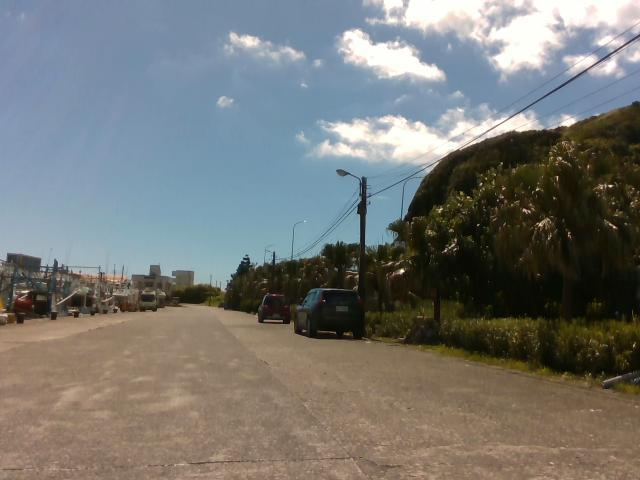pollute: (396, 309, 442, 347), (597, 367, 639, 389)
